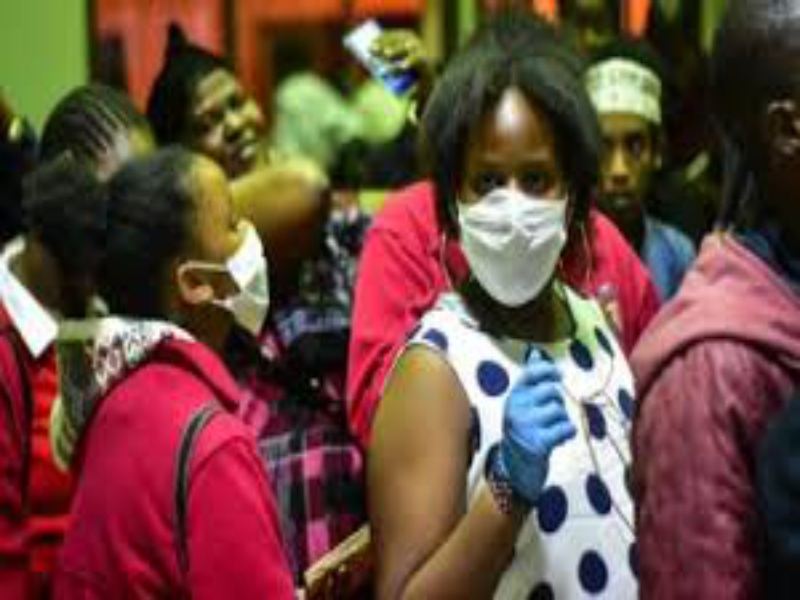ManaoArotava: (446, 96, 584, 315), (159, 143, 289, 354)
TsisyArotava: (574, 51, 673, 223)
